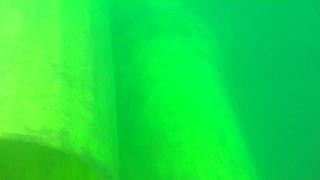pipe: (111, 1, 257, 179), (1, 1, 118, 179)
